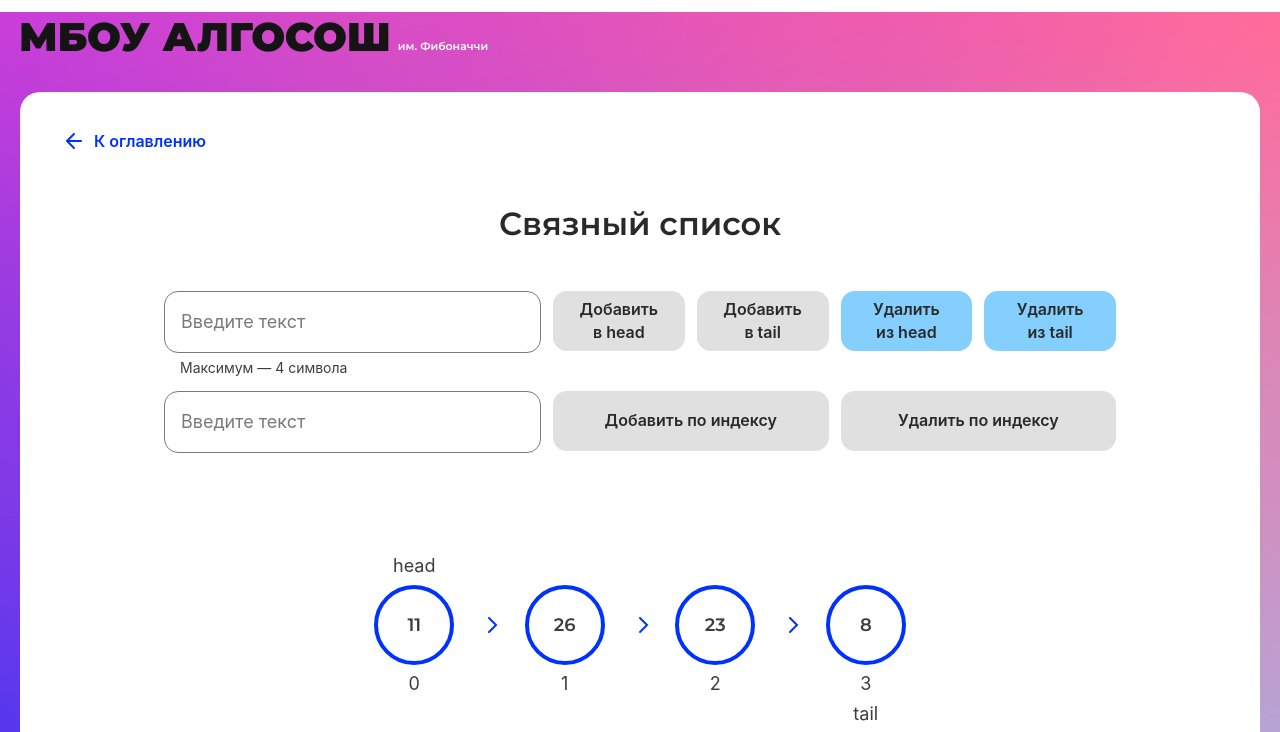
Test: Проверка работы связного списка: › Удаление элемента из tail
Expected: the element with test id "delTail" is enabled
Click the button with test id "delTail" at (1050, 321), box [984,291,1116,351]
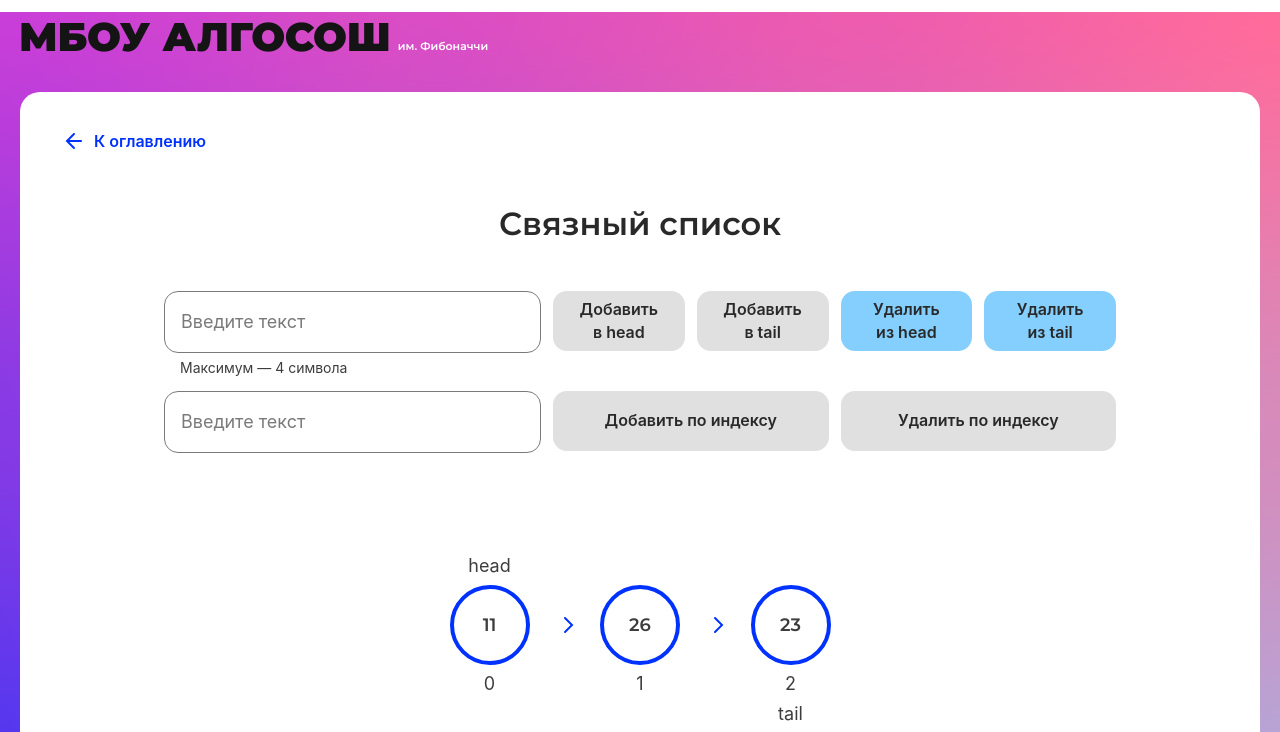
Expected: the number of elements with test id "circle" is 3, [450,585,530,665]; [600,585,680,665]; [750,585,830,665]
